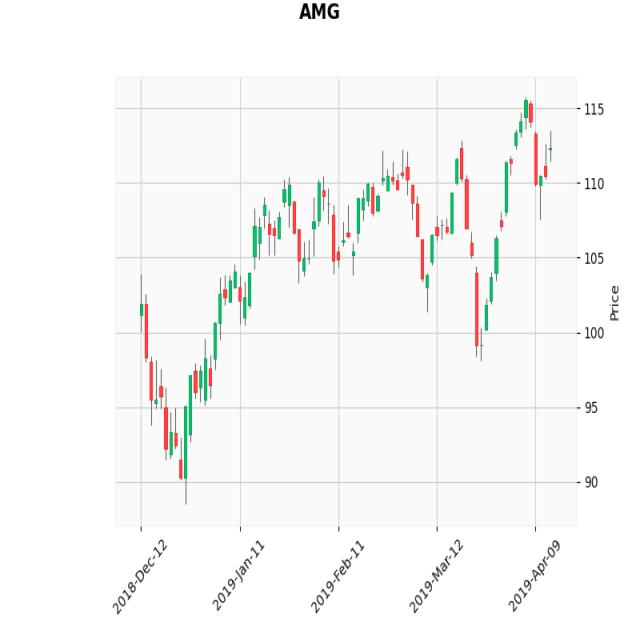Double-Top: (345, 139, 484, 353)
